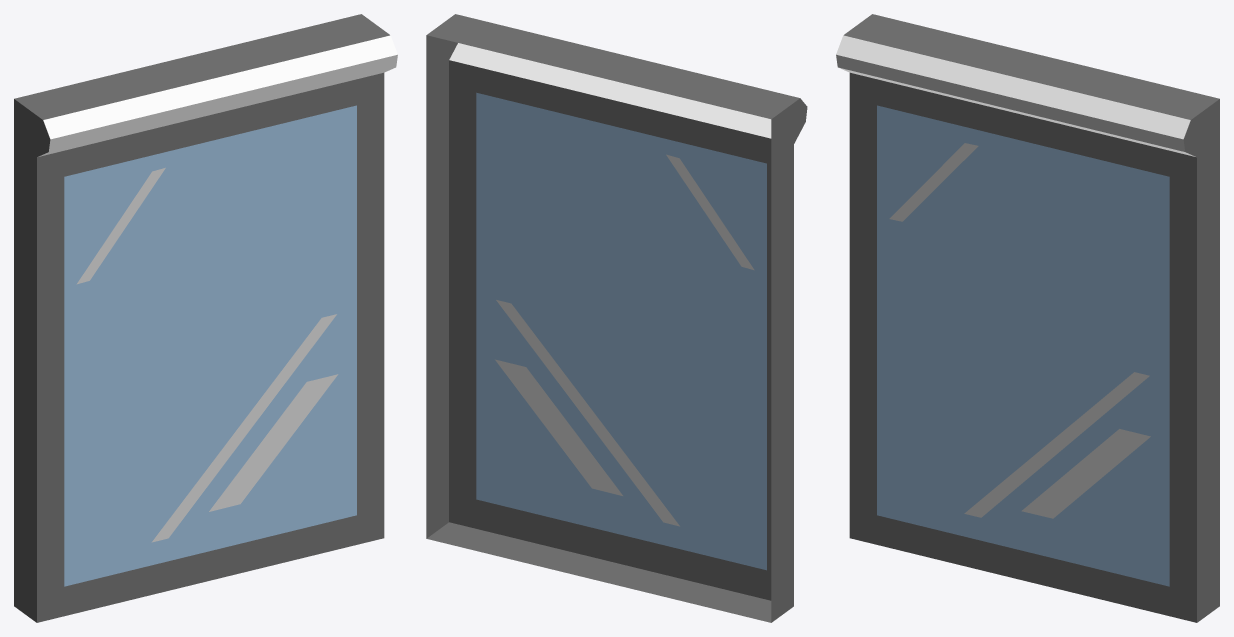
Rendered from Mirror.fbx.
3 views of the same model, side by side, from view 1: azimuth 30°, elevation 25°; view 2: azimuth 150°, elevation 25°; view 3: azimuth 330°, elevation 25° (orthographic).
Visible parts, largest first — view 1: Mirror; view 2: Mirror; view 3: Mirror.
Boxes of the visible parts, x1,y1,x2,y2 form: Mirror: (14, 14, 397, 622); Mirror: (426, 14, 807, 622); Mirror: (836, 14, 1219, 622).
Size of the model in its own units: 69.87 by 97.48 by 12.67.
